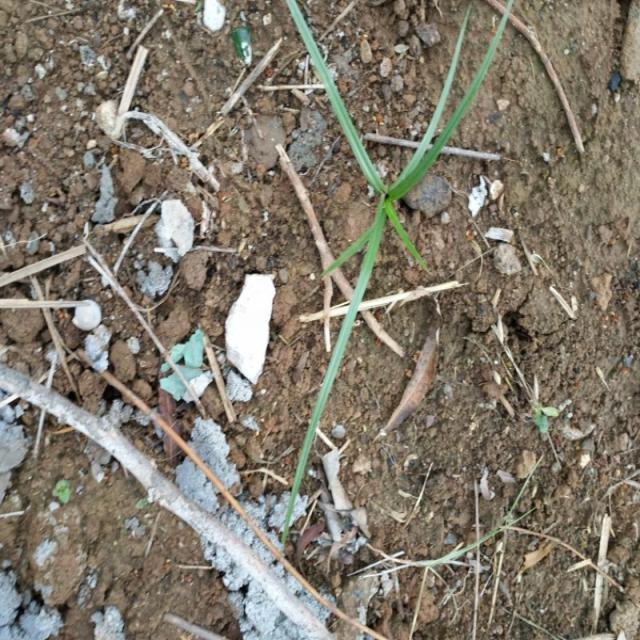sedge: (251, 0, 558, 503)
